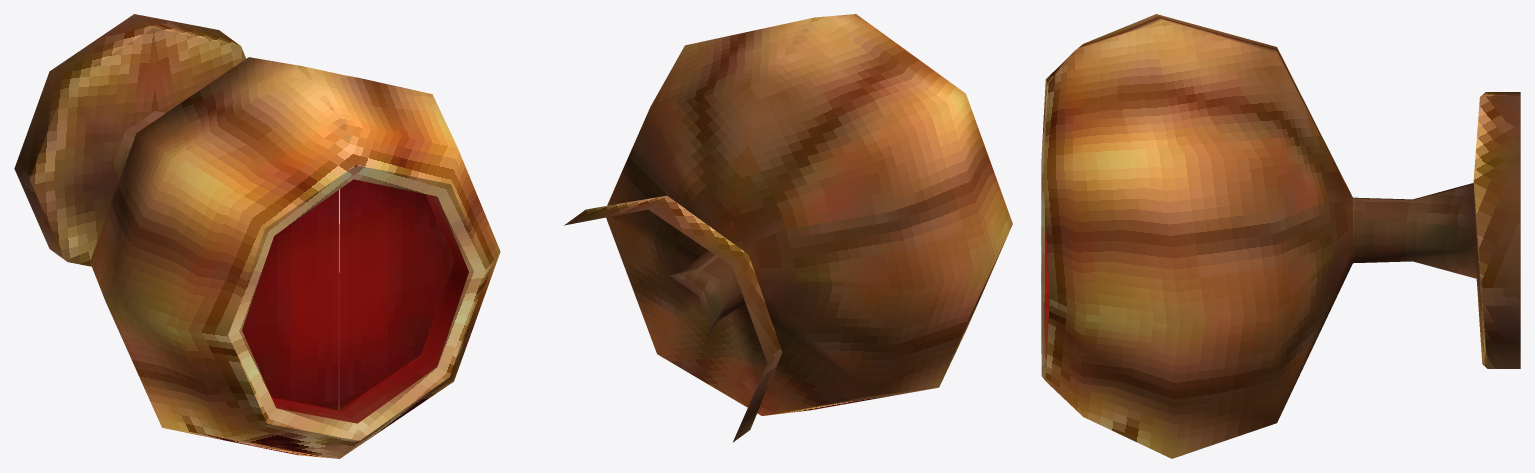
The model's file is pumpkincup.glb.
3 views of the same model, side by side, from view 1: azimuth 30°, elevation 25°; view 2: azimuth 150°, elevation 25°; view 3: azimuth 270°, elevation 25° (orthographic). The views are drawn at different scales.
Visible parts, largest first — view 1: model_pumpkincup; view 2: model_pumpkincup; view 3: model_pumpkincup.
Boxes of the visible parts, box(x1,y1,x2,y2) form: model_pumpkincup: box(14, 14, 500, 458); model_pumpkincup: box(564, 14, 1012, 442); model_pumpkincup: box(1041, 14, 1520, 458).
Bounding box in the file's own units: 0.9839 × 0.9872 × 1.03.
1 material, 1 textured.
